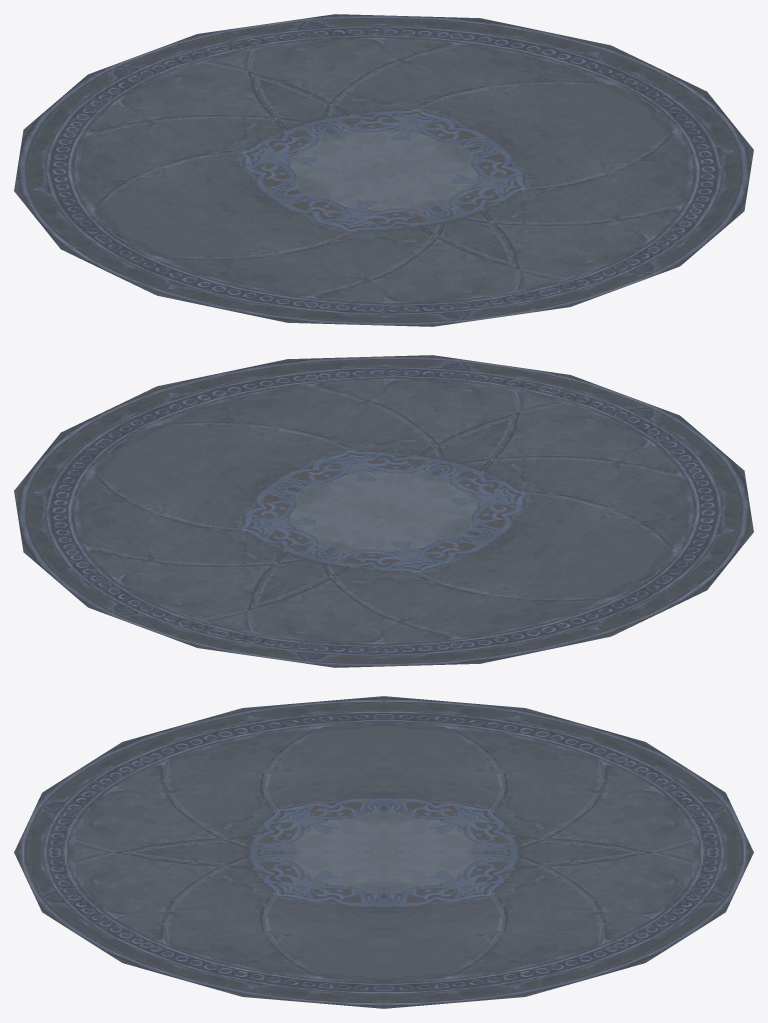
File: xin_03.FBX
3 renders of one model, top to bottom at view 1: azimuth 30°, elevation 25°; view 2: azimuth 150°, elevation 25°; view 3: azimuth 270°, elevation 25°, orthographic.
Visible parts, largest first — view 1: Object007; view 2: Object007; view 3: Object007.
Boxes of the visible parts, x1,y1,x2,y2 form: Object007: [14, 14, 753, 326]; Object007: [14, 355, 753, 667]; Object007: [14, 696, 753, 1008].
Size of the model in its own units: 239 by 1.53e-05 by 239.
